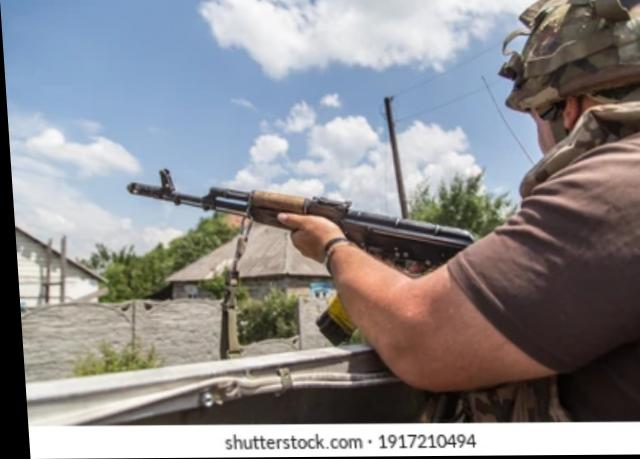other: (482, 0, 640, 420)
